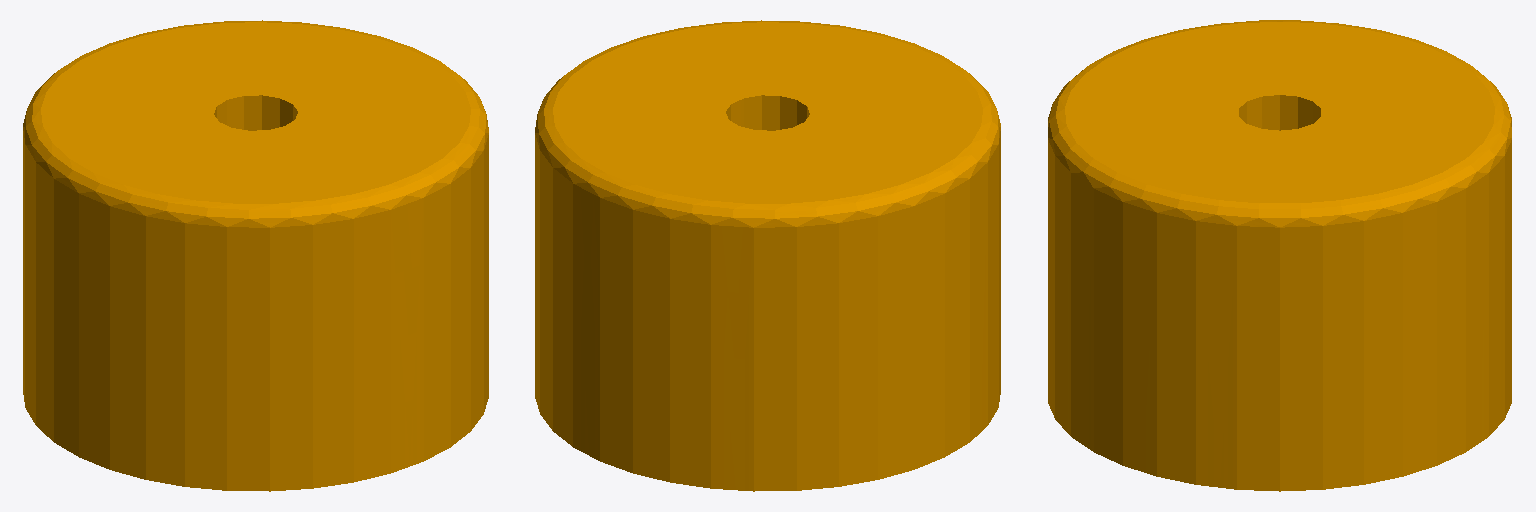
robot.urdf — 00360_socket:
<?xml version="1.0"?>
<robot name="00360_socket">
	<link name="00360_socket">
		<visual>
			<geometry>
				<mesh filename="../mesh/00360/asset_socket.obj"/>
			</geometry>
		</visual>
		<collision>
			<geometry>
				<mesh filename="../mesh/00360/asset_socket.obj"/>
			</geometry>
			<sdf resolution="256"/>
		</collision>
	</link>
</robot>

--- Facts derived from the render (not from the file) ---
3 views of the same robot in one strip: view 1: azimuth 30°, elevation 25°; view 2: azimuth 150°, elevation 25°; view 3: azimuth 270°, elevation 25° (orthographic).
Robot: 00360_socket — 1 links, 0 joints (none); root link 00360_socket; default pose: all joints at 0.
Links seen in each view (by area): view 1: 00360_socket; view 2: 00360_socket; view 3: 00360_socket.
Link boxes in pixels (x1,y1,x2,y2): 00360_socket: [23, 20, 488, 491]; 00360_socket: [535, 20, 1000, 491]; 00360_socket: [1048, 20, 1511, 491].
Bounding box of the posed robot: 0.0331 × 0.033 × 0.0219 m (x, y, z).
1 mesh visuals loaded from 1 distinct referenced files (1 OBJ).